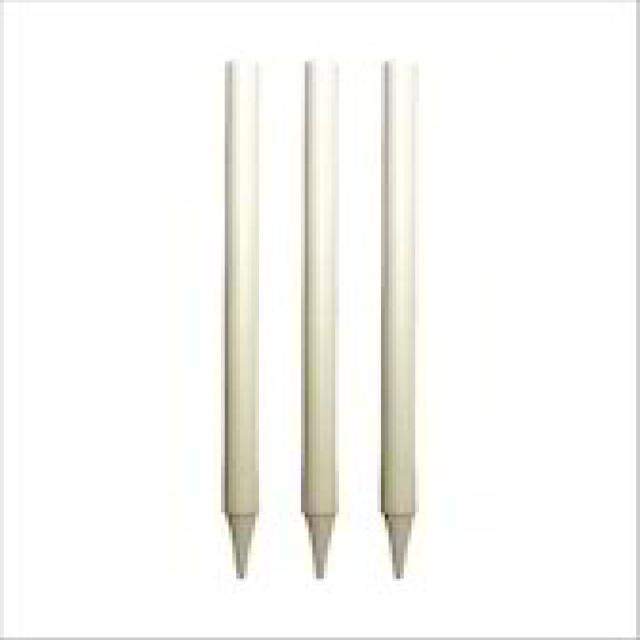stump: (225, 54, 424, 580)
